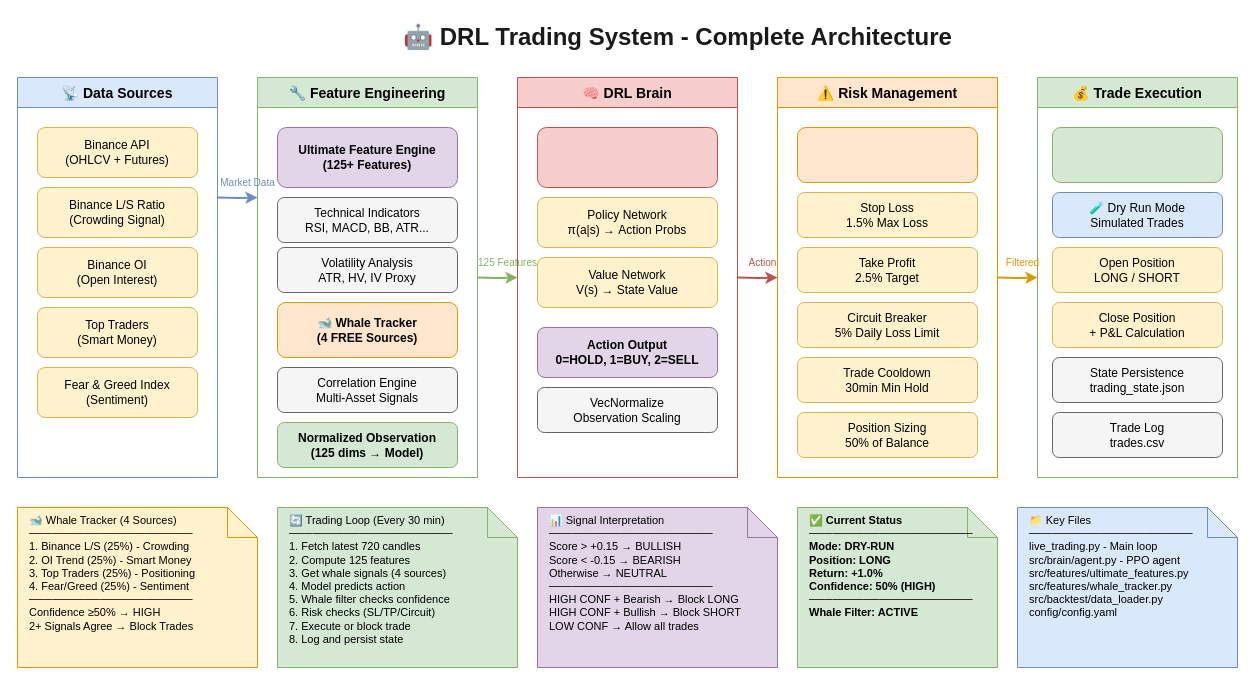
Some shapes in this 1255 by 685 pixel diagram are drawn without their labels. Each missing label, with the centre of its shape:
"Live Trading Agent (live_trading.py)" goes at (1137,154).
"PPO Agent (Stable Baselines3)" goes at (627,157).
"🐋 Whale Filter Block Bad Trades" goes at (887,154).
